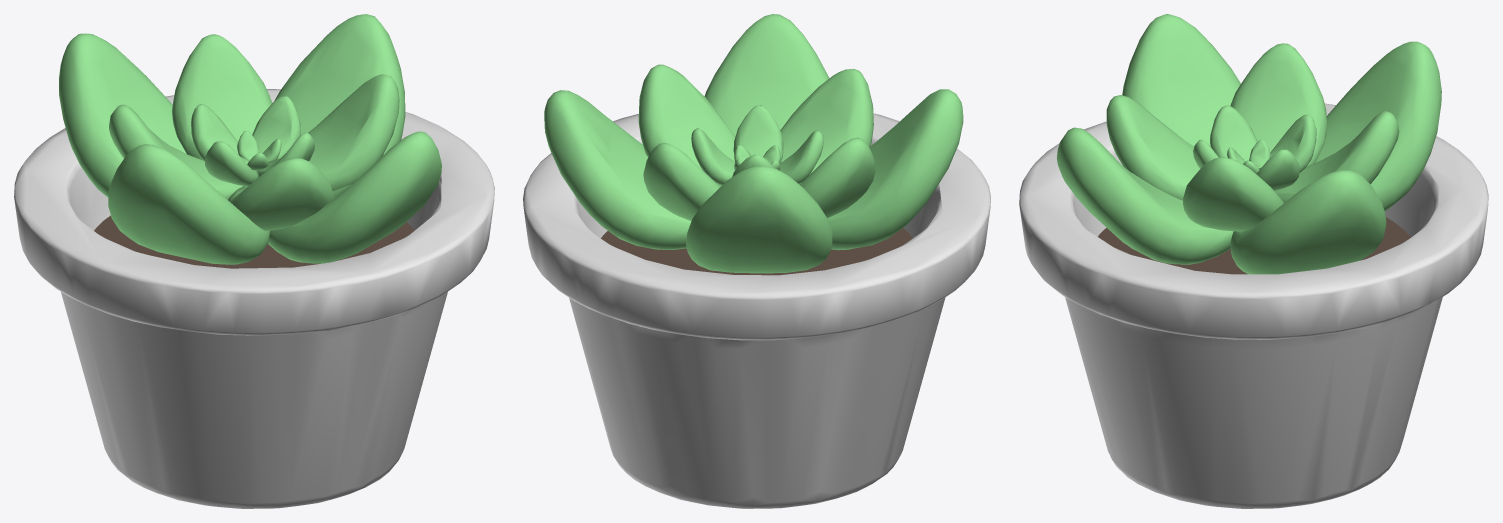
File: Planta.fbx
The picture shows the model from 3 angles, left to right: view 1: azimuth 30°, elevation 25°; view 2: azimuth 150°, elevation 25°; view 3: azimuth 270°, elevation 25°; orthographic projection. The views are drawn at different scales.
Visible parts, largest first — view 1: Maceta.001; view 2: Maceta.001; view 3: Maceta.001.
Part boxes in pixels (left/top/right/bottom): Maceta.001: left=14, top=14, right=494, bottom=508; Maceta.001: left=523, top=14, right=990, bottom=508; Maceta.001: left=1019, top=14, right=1488, bottom=508.
Bounding box in the file's own units: 2.32 × 2 × 2.32.
